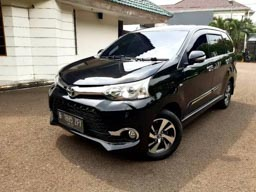plat: (57, 110, 84, 134)
